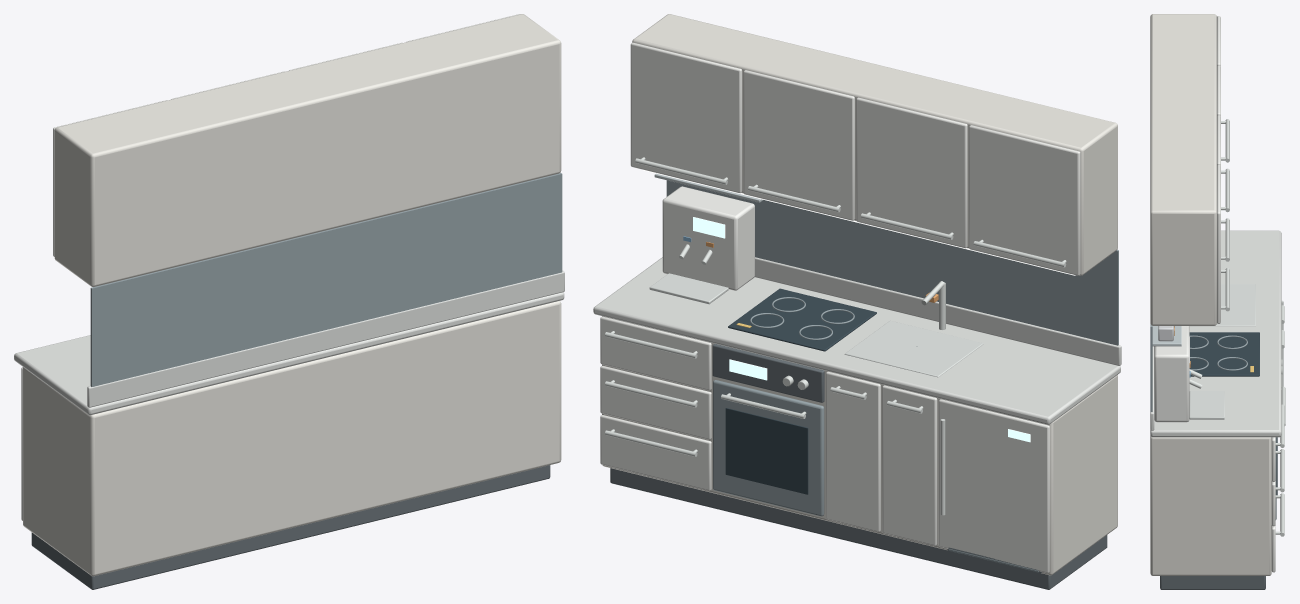
File: galley_kitchenette.glb
3 renders of one model, left to right at view 1: azimuth 30°, elevation 25°; view 2: azimuth 150°, elevation 25°; view 3: azimuth 270°, elevation 25°, orthographic. The views are drawn at different scales.
Parts seen in each view (by area): view 1: carcass_warm_shell, wall_cupboards_warm_shell, splashback_slate_panel, upstand_worktop, worktop_worktop, plinth_graphite; view 2: worktop_worktop, wall_cupboards_warm_shell, splashback_slate_panel, fridge_door_white_painted, wall_door_3_door_white_painted, wall_door_0_door_white_painted, wall_door_1_door_white_painted, wall_door_2_door_white_painted, carcass_warm_shell, sink_l_door_white_painted, sink_r_door_white_painted, plinth_graphite (+12 smaller); view 3: wall_cupboards_warm_shell, carcass_warm_shell, worktop_worktop, rehydration_body_white_painted, hob_dark_glass, plinth_graphite, sink_rim_satin_steel, drip_tray_satin_steel, wall_door_3_door_white_painted, hob_rings_slate_panel, pouch_shelf_alloy, upstand_worktop (+14 smaller).
Boxes of the visible parts, <box> form: carcass_warm_shell: <box>23,301,561,576</box>; wall_cupboards_warm_shell: <box>54,14,561,286</box>; splashback_slate_panel: <box>90,173,562,386</box>; upstand_worktop: <box>87,270,564,407</box>; worktop_worktop: <box>14,292,564,415</box>; plinth_graphite: <box>31,465,550,589</box>; worktop_worktop: <box>593,257,1120,424</box>; wall_cupboards_warm_shell: <box>632,14,1117,275</box>; splashback_slate_panel: <box>666,180,1118,345</box>; fridge_door_white_painted: <box>938,399,1049,573</box>; wall_door_3_door_white_painted: <box>630,42,742,193</box>; wall_door_0_door_white_painted: <box>969,125,1080,275</box>; wall_door_1_door_white_painted: <box>856,97,967,248</box>; wall_door_2_door_white_painted: <box>743,70,854,220</box>; carcass_warm_shell: <box>602,316,1117,575</box>; sink_l_door_white_painted: <box>882,385,937,545</box>; sink_r_door_white_painted: <box>826,371,880,531</box>; plinth_graphite: <box>610,468,1107,589</box>; wall_cupboards_warm_shell: <box>1150,14,1216,325</box>; carcass_warm_shell: <box>1150,435,1271,575</box>; worktop_worktop: <box>1150,230,1281,437</box>; rehydration_body_white_painted: <box>1154,326,1189,422</box>; hob_dark_glass: <box>1189,332,1259,376</box>; plinth_graphite: <box>1160,576,1265,589</box>; sink_rim_satin_steel: <box>1189,284,1255,326</box>; drip_tray_satin_steel: <box>1189,391,1224,419</box>; wall_door_3_door_white_painted: <box>1217,164,1220,323</box>; hob_rings_slate_panel: <box>1189,335,1247,370</box>; pouch_shelf_alloy: <box>1152,326,1181,346</box>; upstand_worktop: <box>1150,346,1154,430</box>.
Size of the model in its own units: 2.43 by 2.15 by 0.691.
